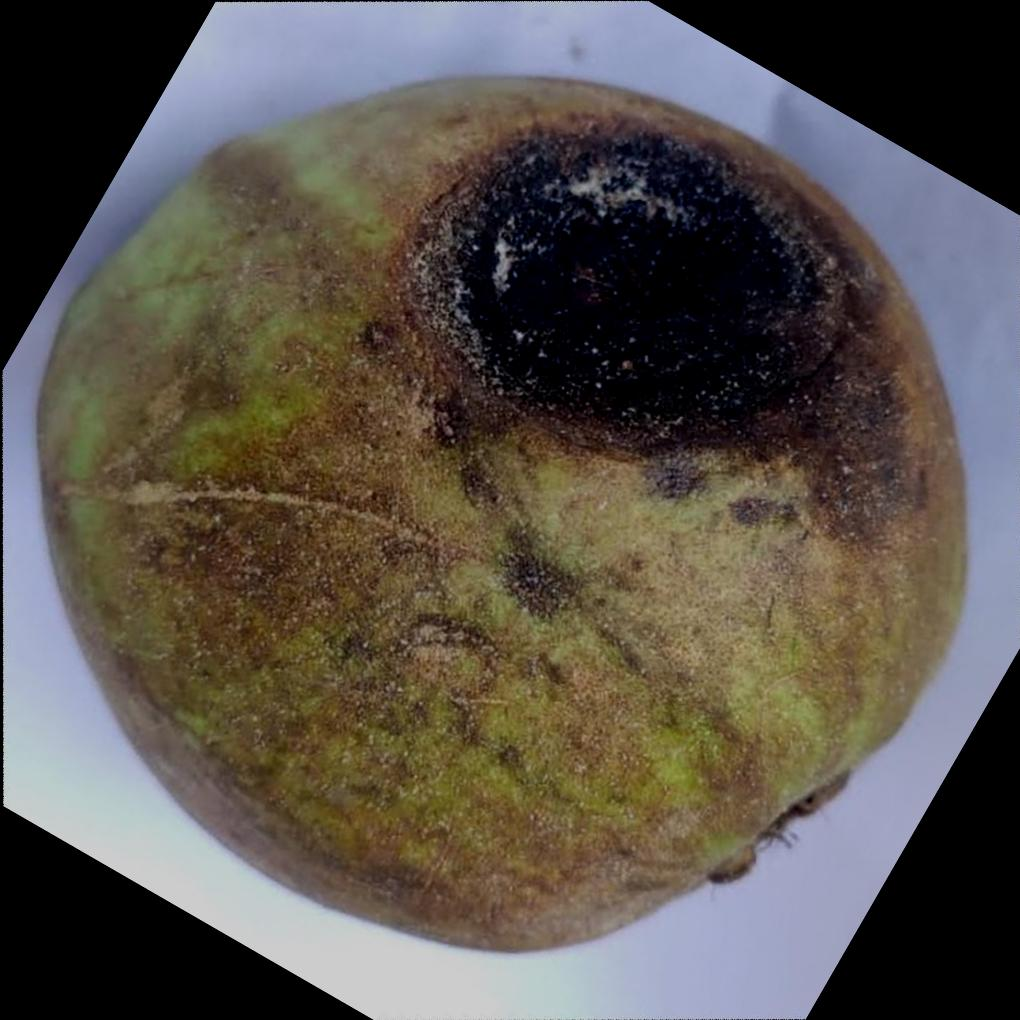FreshOrange: (32, 75, 966, 960)
